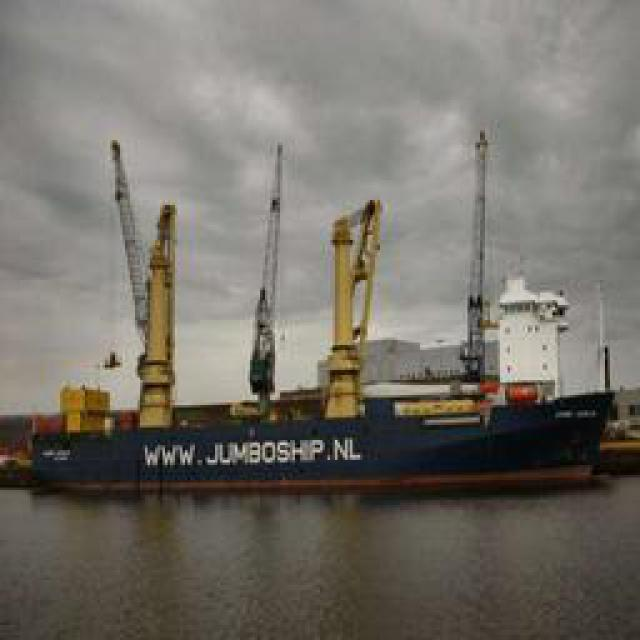Ship: (31, 409, 614, 489)
